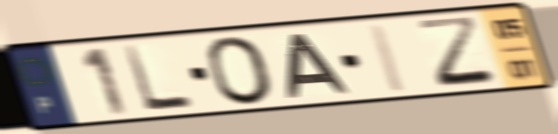1: (78, 44, 132, 118)
A: (284, 32, 355, 100)
I: (364, 21, 412, 96)
L: (119, 42, 199, 115)
O: (202, 34, 279, 108)
Z: (412, 13, 504, 91)
